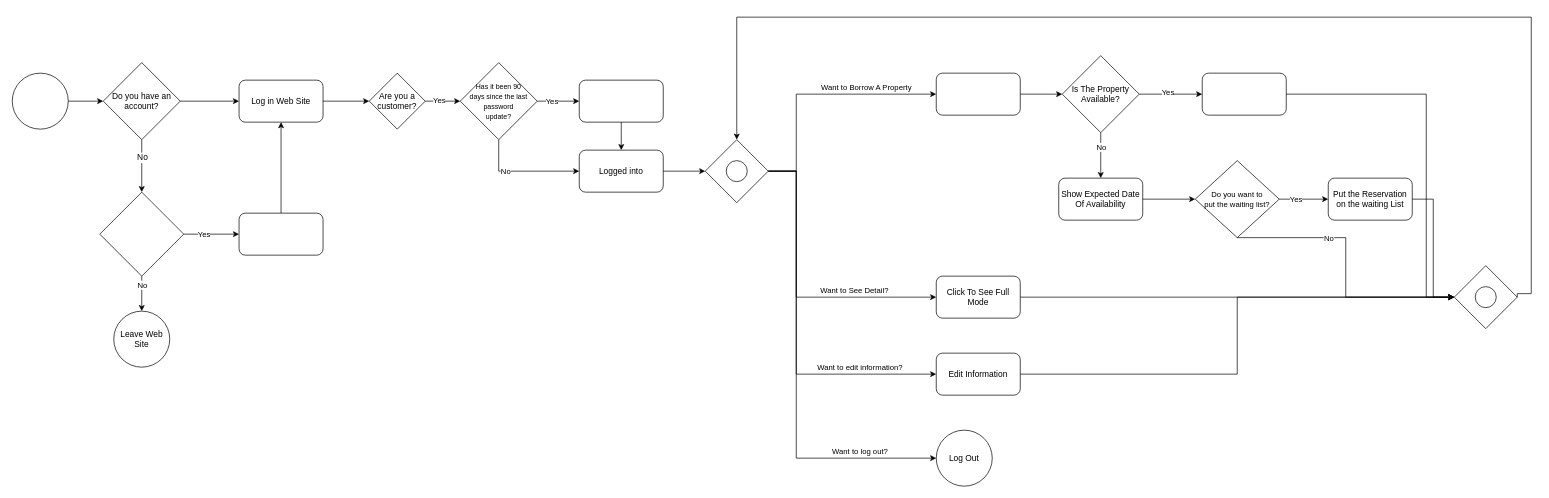
The diagram is 1549 pixels wide and 498 high, and some of its shapes have lost their labels. The centre of each missing label's shape, as x and y in pixels:
"Change Password" belongs at (x=621, y=100).
"Create An Account" belongs at (x=280, y=233).
"Do you want to become a member?" belongs at (x=141, y=233).
"Open Web Site" belongs at (x=40, y=100).
"Reserve A Property" belongs at (x=1244, y=93).
"Search For Wanted Property" belongs at (x=978, y=93).
